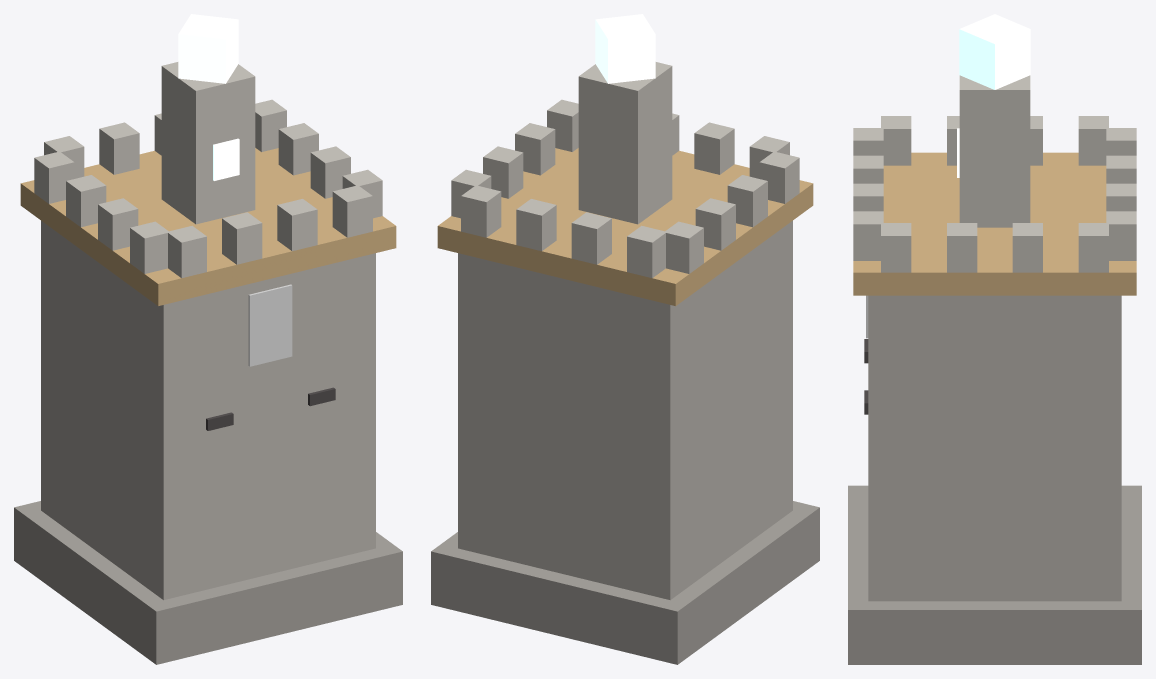
The picture shows the model from 3 angles, left to right: view 1: azimuth 30°, elevation 25°; view 2: azimuth 150°, elevation 25°; view 3: azimuth 270°, elevation 25°; orthographic projection. The views are drawn at different scales.
Visible parts, largest first — view 1: body; view 2: body; view 3: body.
Boxes of the visible parts, box(x1,y1,x2,y2) form: body: box(14, 14, 402, 664); body: box(431, 14, 819, 664); body: box(848, 14, 1141, 664).
Size of the model in its own units: 5.8 by 12.5 by 5.8.
